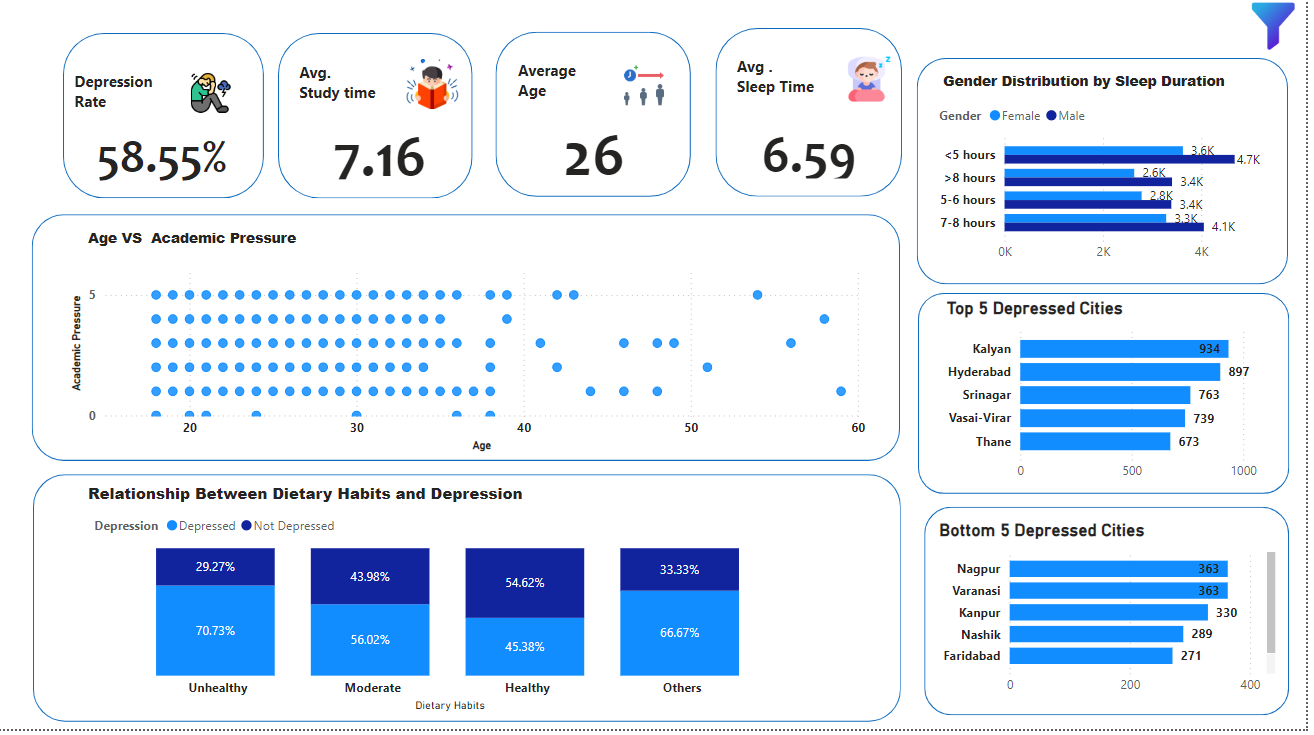

The dashboard page shown, as its layout file describes it:
{"tool":"powerbi","page":{"name":"Duplicate of Page 2","canvas":[1280,720],"ordinal":1},"visuals":[{"type":"shape","box":[701.4,34.8,182.5,165.1],"z":0,"group":"g2"},{"type":"shape","box":[486.7,37.3,191.1,161.5],"z":0,"group":"g4"},{"type":"shape","box":[273.6,38.4,190.3,161.8],"z":0,"group":"g1"},{"type":"shape","box":[63.4,38.9,196.5,161.7],"z":0,"group":"g3"},{"type":"shape","box":[899.2,63.4,363.2,221.4],"z":0},{"type":"textbox","box":[717.4,57.3,98.2,57.3],"z":1000,"group":"g2"},{"type":"textbox","box":[503.4,59.3,117.3,56],"z":1000,"group":"g4"},{"type":"textbox","box":[69.1,70.7,108.5,56.1],"z":1000,"group":"g3"},{"type":"card","fields":{"Values":["Measure Table.Avg Study Hours"]},"box":[294.9,122.1,157.9,64.9],"z":1000,"group":"g1"},{"type":"shape","box":[900.4,293.5,363.2,196.5],"z":1000},{"type":"textbox","box":[289.3,61.5,105.2,55],"z":2000,"group":"g1"},{"type":"card","fields":{"Values":["Measure Table.Average Age"]},"box":[503.4,119.7,158.7,64.8],"z":2000,"group":"g4"},{"type":"card","fields":{"Values":["Avg(Student Depression Dataset.Sleep Duration Numeric)"]},"box":[717.4,120.2,151.5,66.3],"z":2000,"group":"g2"},{"type":"card","fields":{"Values":["Measure Table.Depression Rate"]},"box":[79.6,123.5,161.7,64.7],"z":2000,"group":"g3"},{"type":"shape","box":[906.7,502.5,356.9,204],"z":2000},{"type":"image","box":[825.5,56.2,53.5,58.5],"z":3000,"group":"g2"},{"type":"image","box":[394.5,57.1,60.5,62.7],"z":3000,"group":"g1"},{"type":"image","box":[601.8,63.7,60.3,51.6],"z":3000,"group":"g4"},{"type":"image","box":[177.9,72.3,59.4,51.7],"z":3000,"group":"g3"},{"type":"shape","box":[34.8,470.4,849,242.1],"z":3000},{"type":"group","id":"g1","title":"Group 1","box":[273.6,38.4,190.3,161.8],"z":4000,"group":"g4"},{"type":"shape","box":[33.6,216.4,849.4,241.3],"z":4000},{"type":"scatterChart","title":"Age VS  Academic Pressure","fields":{"X":["Student Depression Dataset.Age"],"Y":["Student Depression Dataset.Academic Pressure"]},"box":[65.9,257.4,787.3,195.3],"z":5000},{"type":"textbox","box":[83.2,224.7,248.3,34.8],"z":6000},{"type":"hundredPercentStackedColumnChart","title":"Relationship Between Dietary Habits and Depression","fields":{"Category":["Student Depression Dataset.Dietary Habits"],"Y":["CountNonNull(Student Depression Dataset.id)"],"Series":["Student Depression Dataset.Depression"]},"box":[89.5,501.2,706.4,206.5],"z":7000},{"type":"textbox","box":[83.2,474.2,454.3,31],"z":8000},{"type":"clusteredBarChart","title":"Gender Distribution by Sleep Duration","fields":{"Series":["Student Depression Dataset.Gender"],"Category":["Student Depression Dataset.Sleep Duration"],"Y":["Measure Table.Total Respondents"]},"box":[915.4,100.7,330.8,171.6],"z":9000},{"type":"textbox","box":[919.1,72.1,296,28.6],"z":10000},{"type":"barChart","title":"Top 5 Depressed Cities","fields":{"Category":["Student Depression Dataset.City"],"Y":["Student Depression Dataset.Depressed Count"]},"box":[922.8,298.5,325.8,187.8],"z":11000},{"type":"barChart","title":"Bottom 5 Depressed Cities","fields":{"Category":["Student Depression Dataset.City"],"Y":["Student Depression Dataset.Depressed Count"]},"box":[915.4,514.9,338.3,180.3],"z":12000},{"type":"group","id":"g2","title":"Group 3","box":[701.4,34.8,182.8,165.4],"z":13000},{"type":"group","id":"g3","title":"Group 4","box":[63.4,38.9,196.5,161.7],"z":14000},{"type":"group","id":"g4","title":"Group 2","box":[273.6,37.3,404.2,162.9],"z":15000},{"type":"image","box":[1215.5,3.7,63.6,57.5],"z":16000}]}

Visuals, with their boxes in screenshot pixels (x1, y1, x2, y2), scaled from the page's 1280x720 canvas onto the 1314x735 screenshot:
shape: l=720, t=36, r=907, b=204
shape: l=500, t=38, r=696, b=203
shape: l=281, t=39, r=476, b=204
shape: l=65, t=40, r=267, b=205
shape: l=923, t=65, r=1296, b=291
textbox: l=736, t=58, r=837, b=117
textbox: l=517, t=61, r=637, b=118
textbox: l=71, t=72, r=182, b=129
card - Measure Table.Avg Study Hours: l=303, t=125, r=465, b=191
shape: l=924, t=300, r=1297, b=500
textbox: l=297, t=63, r=405, b=119
card - Measure Table.Average Age: l=517, t=122, r=680, b=188
card - Avg(Student Depression Dataset.Sleep Duration Numeric): l=736, t=123, r=892, b=190
card - Measure Table.Depression Rate: l=82, t=126, r=248, b=192
shape: l=931, t=513, r=1297, b=721
image: l=847, t=57, r=902, b=117
image: l=405, t=58, r=467, b=122
image: l=618, t=65, r=680, b=118
image: l=183, t=74, r=244, b=127
shape: l=36, t=480, r=907, b=727
"Group 1" group: l=281, t=39, r=476, b=204
shape: l=34, t=221, r=906, b=467
"Age VS  Academic Pressure" scatterChart: l=68, t=263, r=876, b=462
textbox: l=85, t=229, r=340, b=265
"Relationship Between Dietary Habits and Depression" hundredPercentStackedColumnChart: l=92, t=512, r=817, b=722
textbox: l=85, t=484, r=552, b=516
"Gender Distribution by Sleep Duration" clusteredBarChart: l=940, t=103, r=1279, b=278
textbox: l=944, t=74, r=1247, b=103
"Top 5 Depressed Cities" barChart: l=947, t=305, r=1282, b=496
"Bottom 5 Depressed Cities" barChart: l=940, t=526, r=1287, b=710
"Group 3" group: l=720, t=36, r=908, b=204
"Group 4" group: l=65, t=40, r=267, b=205
"Group 2" group: l=281, t=38, r=696, b=204
image: l=1248, t=4, r=1313, b=62
